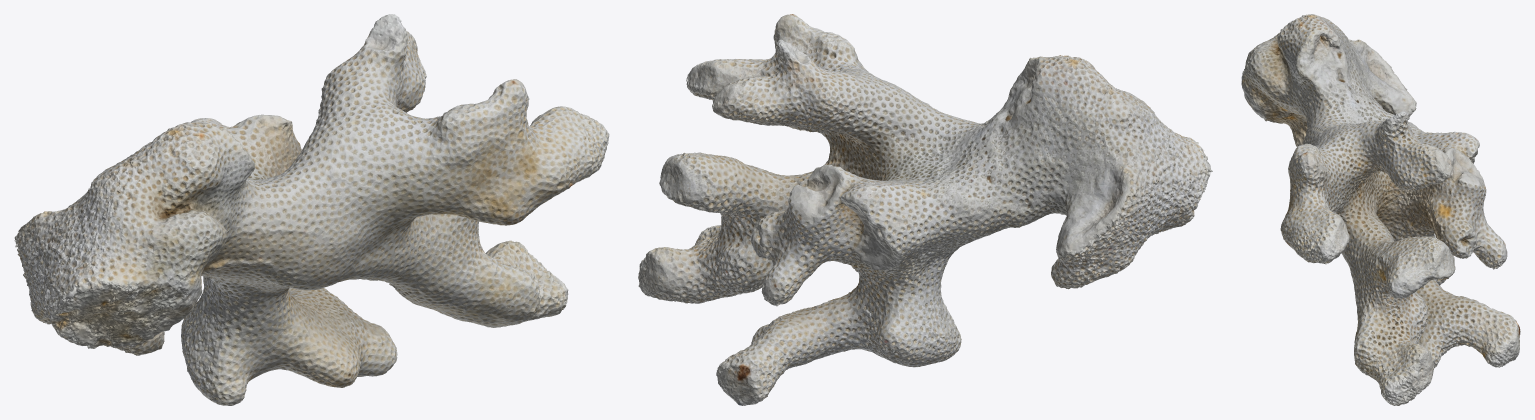
File: MZUR3D-018.glb
The picture shows the model from 3 angles, left to right: view 1: azimuth 30°, elevation 25°; view 2: azimuth 150°, elevation 25°; view 3: azimuth 270°, elevation 25°; orthographic projection. The views are drawn at different scales.
Parts seen in each view (by area): view 1: MZUR3D-018; view 2: MZUR3D-018; view 3: MZUR3D-018.
Part boxes in pixels (box(x1,y1,x2,y2)): MZUR3D-018: box(14, 14, 609, 405); MZUR3D-018: box(638, 14, 1212, 405); MZUR3D-018: box(1241, 14, 1520, 405).
Bounding box in the file's own units: 1.28 × 0.7663 × 0.7405.
Materials: 1 (1 with a texture image).
